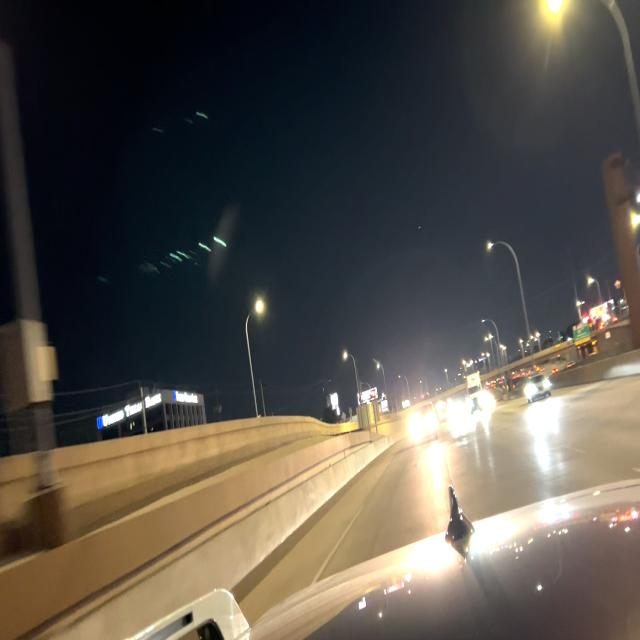back-of-sign: (355, 399, 381, 432)
